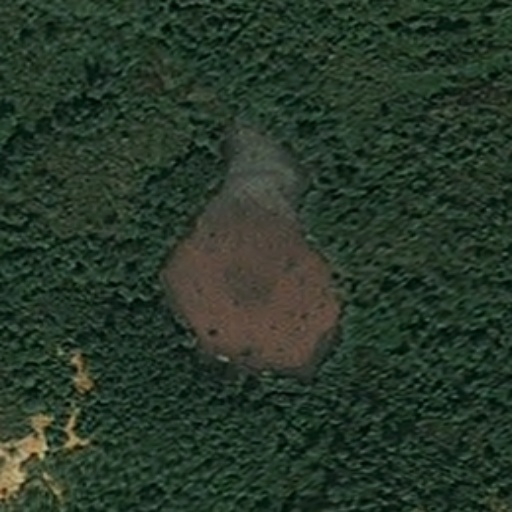landslide: (162, 130, 346, 365), (2, 352, 91, 493)
